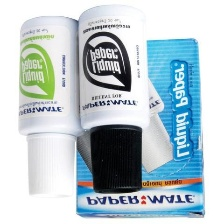book: (72, 36, 208, 220)
correction_fluid: (76, 2, 149, 196), (16, 13, 90, 200)
